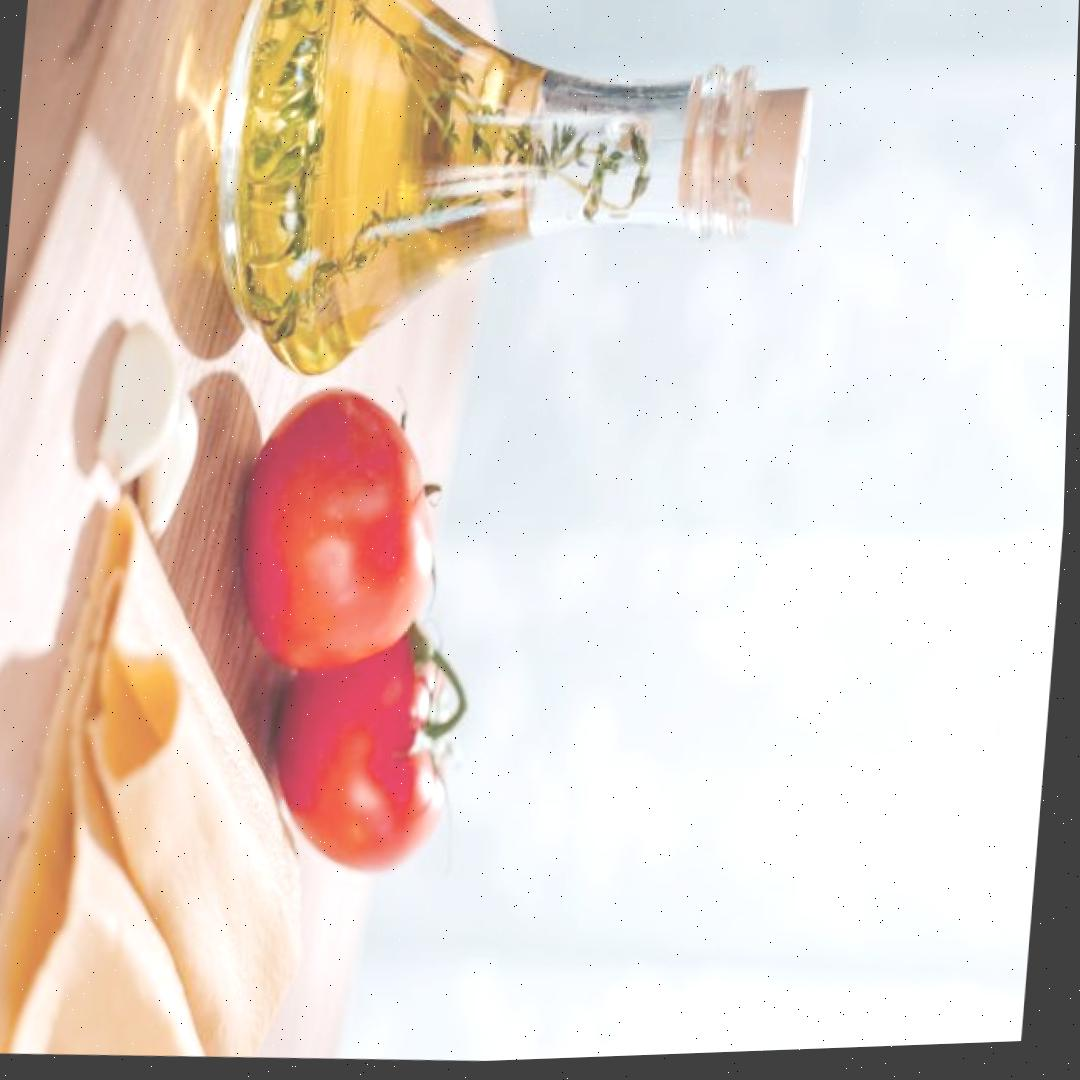matang: (223, 375, 447, 676), (264, 606, 463, 876)
